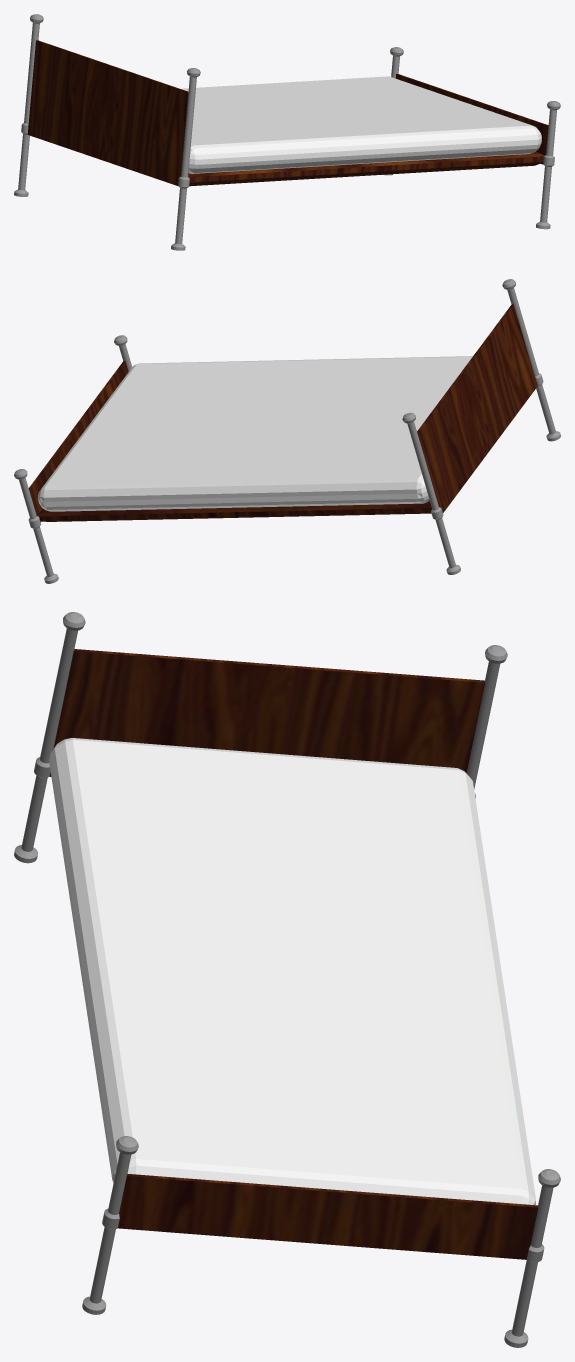
File: Bed.obj
The picture shows the model from 3 angles, top to bottom: view 1: azimuth 30°, elevation 25°; view 2: azimuth 150°, elevation 25°; view 3: azimuth 270°, elevation 25°; orthographic projection. The views are drawn at different scales.
Parts seen in each view (by area): view 1: Default; view 2: Default; view 3: Default.
Part boxes in pixels (x1=…): Default: x1=14, y1=14, x2=560, y2=250; Default: x1=14, y1=279, x2=560, y2=583; Default: x1=14, y1=612, x2=560, y2=1347.
Bounding box in the file's own units: 2.01 × 1.23 × 1.3.
Materials: 3 (3 with a texture image).
